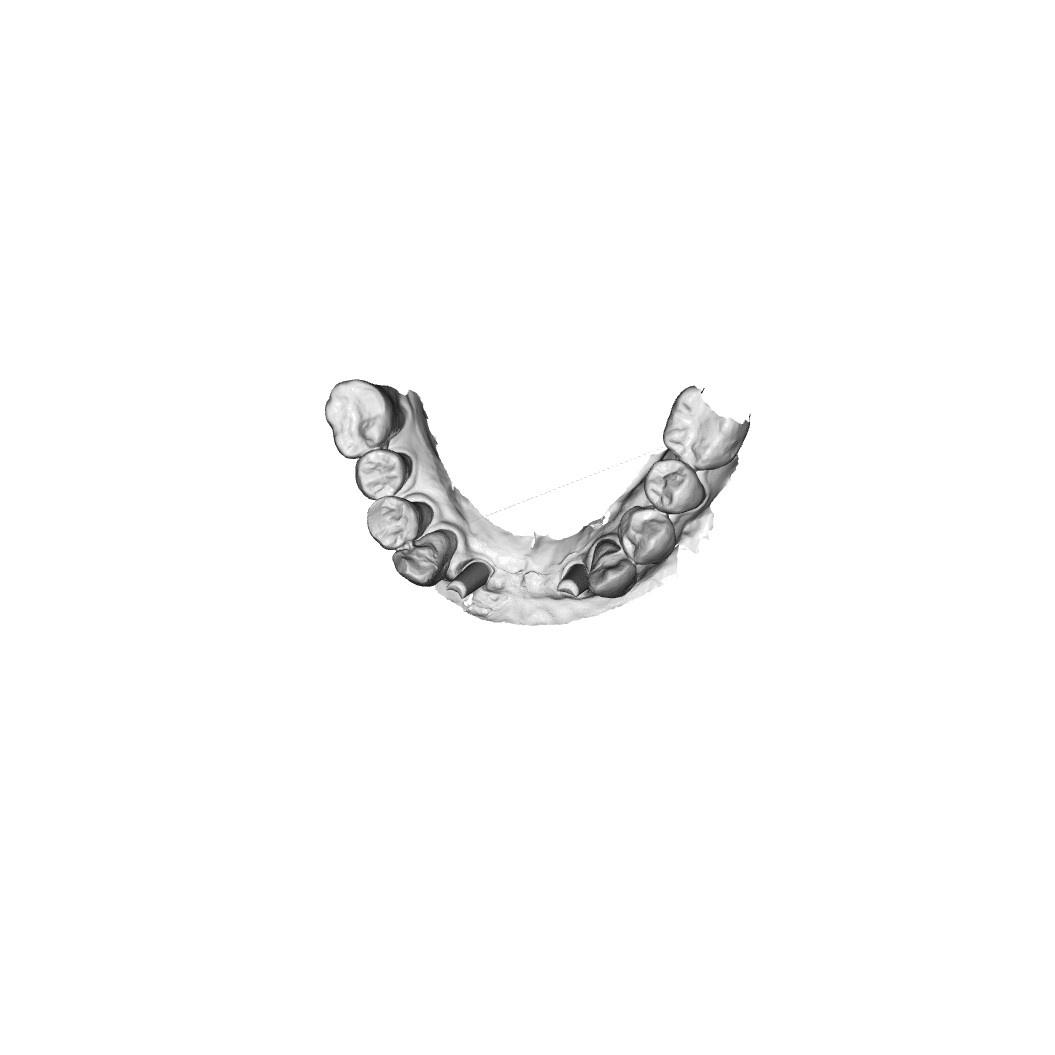abutment: (444, 556, 498, 603), (551, 559, 590, 603)
canine: (392, 531, 455, 588), (589, 536, 634, 598)
molar: (665, 391, 749, 467), (322, 381, 396, 457)
premolar: (647, 456, 703, 511), (620, 504, 675, 559), (368, 493, 421, 549), (359, 451, 407, 497)
